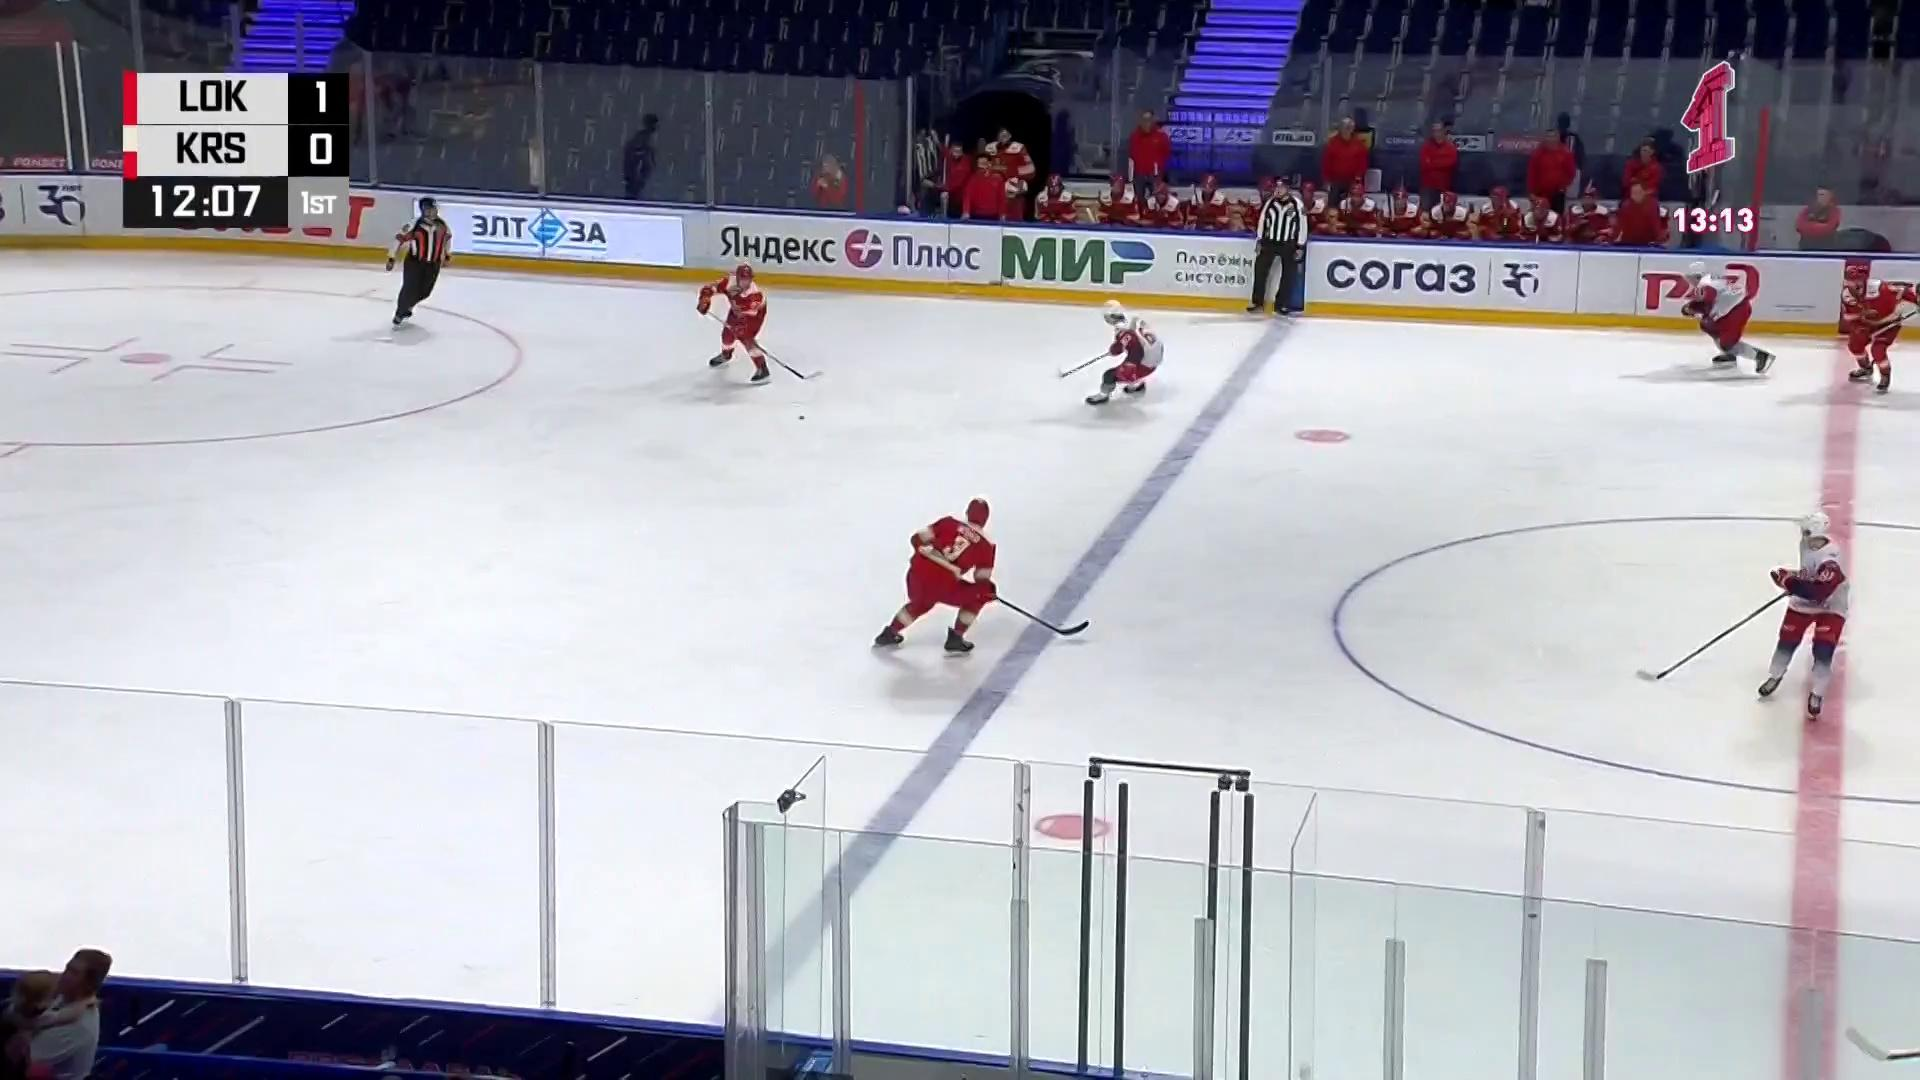ball: (798, 415, 806, 421)
